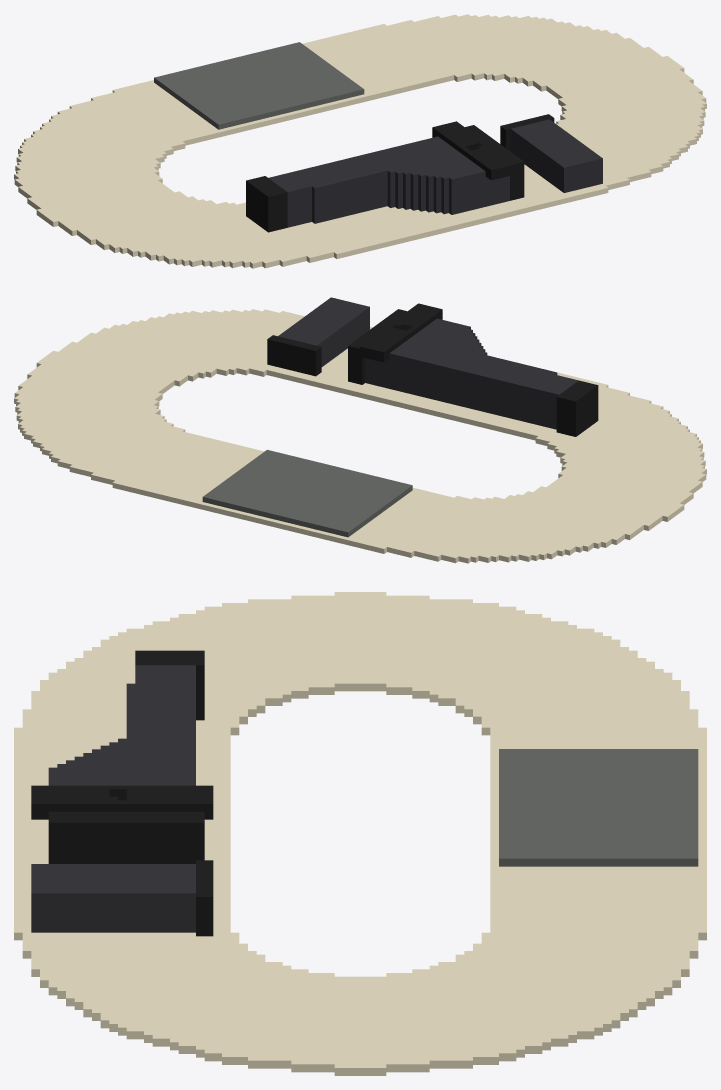
The model's file is bbholster.glb.
3 views of the same model, one above another, from view 1: azimuth 30°, elevation 25°; view 2: azimuth 150°, elevation 25°; view 3: azimuth 270°, elevation 25° (orthographic). The views are drawn at different scales.
Parts seen in each view (by area): view 1: bbholster:compound; view 2: bbholster:compound; view 3: bbholster:compound.
Boxes of the visible parts, bbox=[...] form: bbholster:compound: bbox=[14, 14, 706, 268]; bbholster:compound: bbox=[14, 297, 706, 563]; bbholster:compound: bbox=[14, 592, 706, 1075].
Size of the model in its own units: 0.52 by 0.036 by 0.32.
